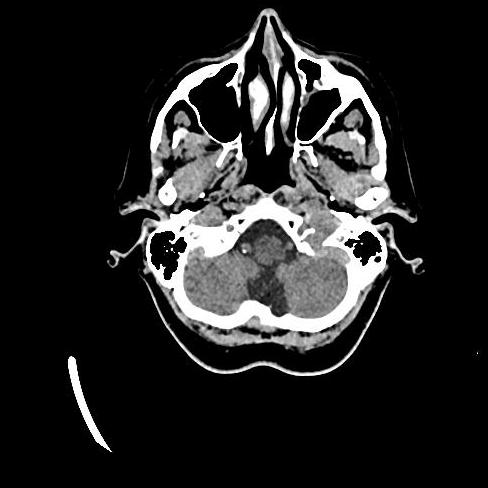Normal_Brain: (109, 1, 423, 394)
